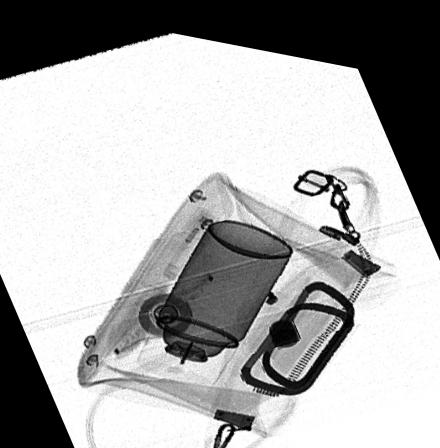Sprayer: (138, 210, 292, 380)
